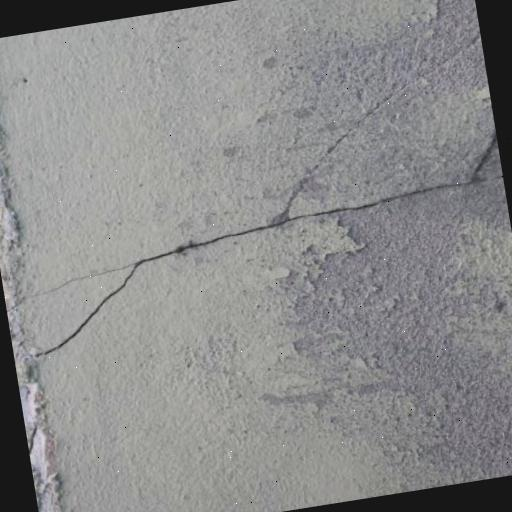spalling: (38, 140, 498, 365)
